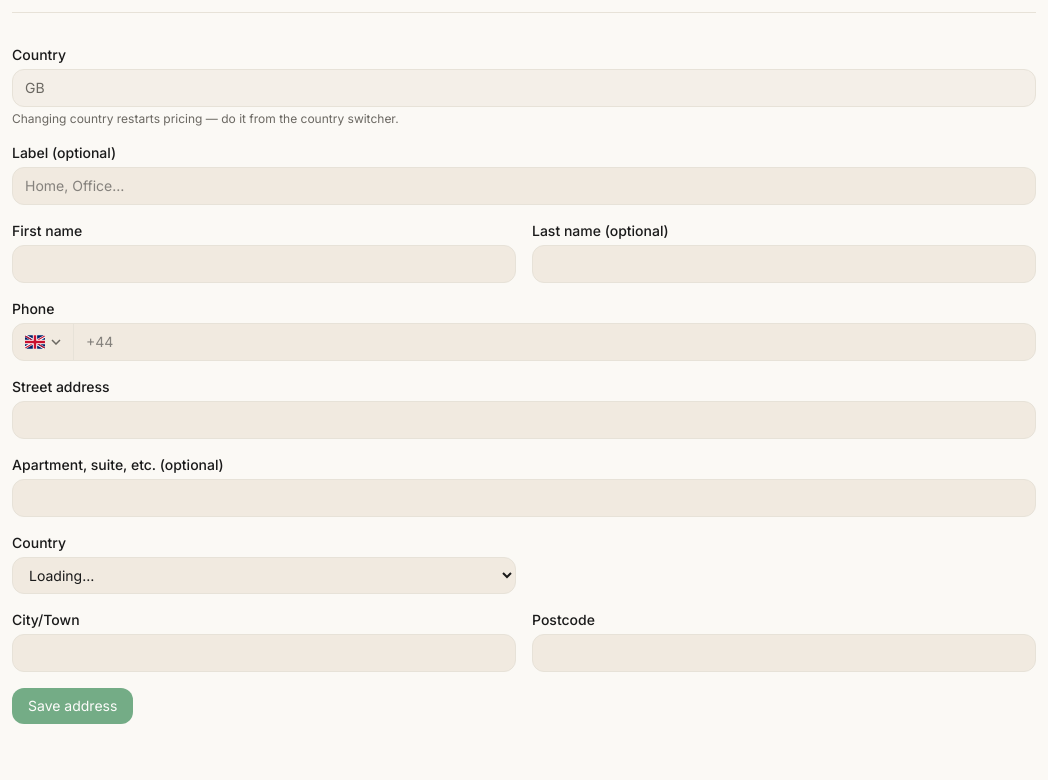
Test: AddressStep › adds a new address (happy path): fills required fields, POSTs, selects it, and completes step 2
Expected: the field labelled "Street address" is shown, x1=12 y1=401 x2=1036 y2=439
Step 1. Type "Ada" into the field labelled "First name" → (264, 264), box x1=12 y1=245 x2=516 y2=283
Step 2. Type "07000000000" into the field labelled "Phone" → (554, 342), box x1=74 y1=324 x2=1035 y2=360
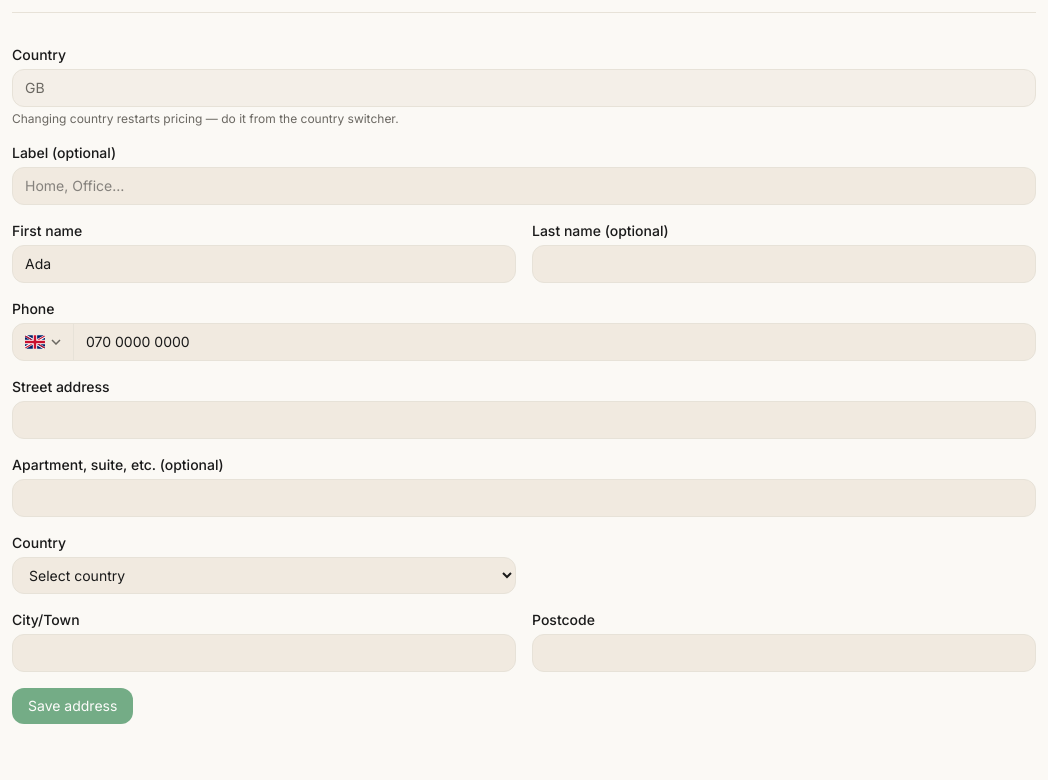
Step 3. Type "10 Downing St" into the field labelled "Street address" → (524, 420), box x1=12 y1=401 x2=1036 y2=439
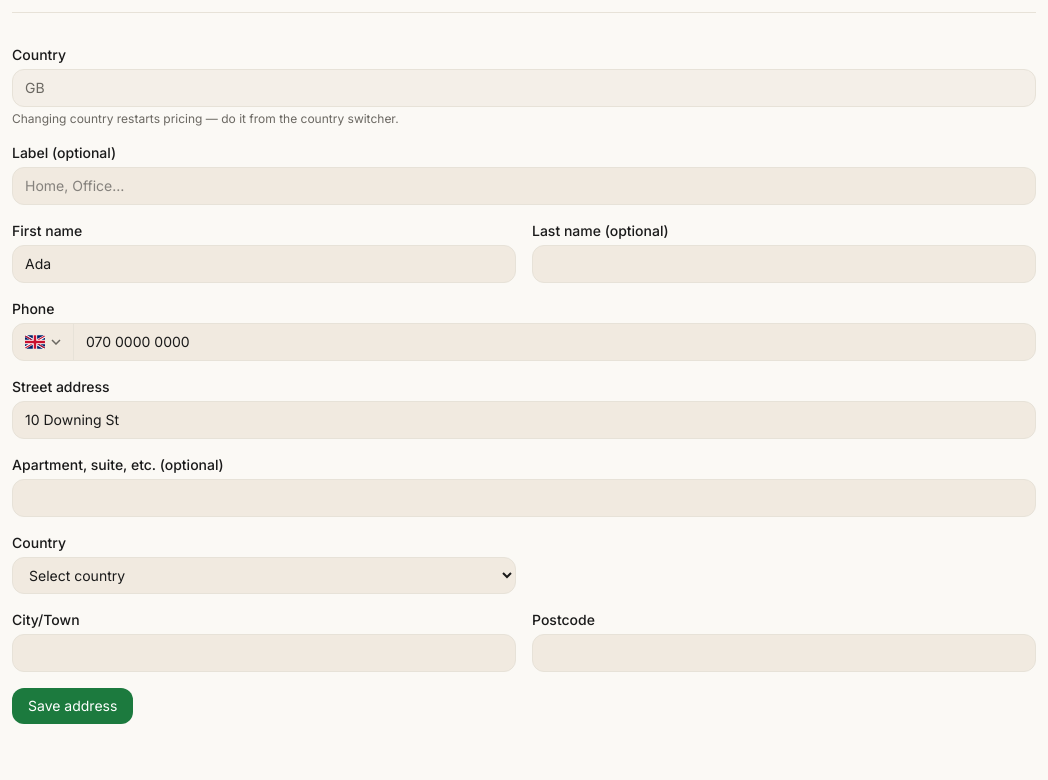
Step 4. Select "England" in the dropdown labelled "Country" → (264, 576), box x1=12 y1=557 x2=516 y2=594
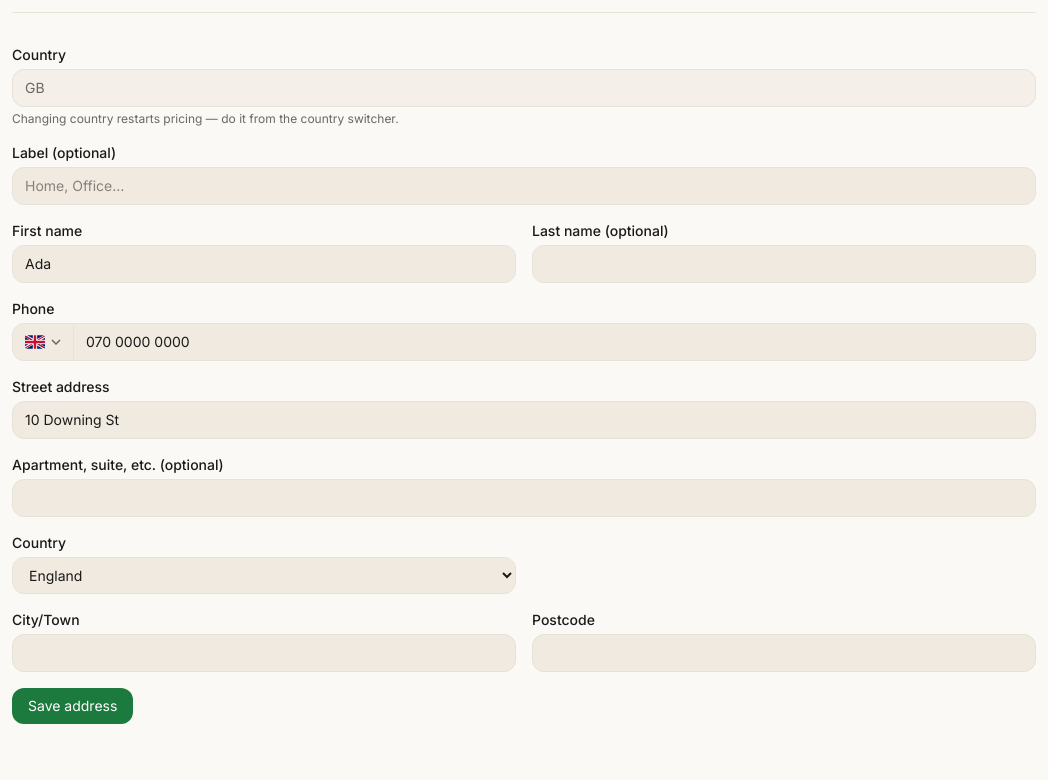
Step 5. Type "London" into the field labelled "City/Town" → (264, 653), box x1=12 y1=634 x2=516 y2=672
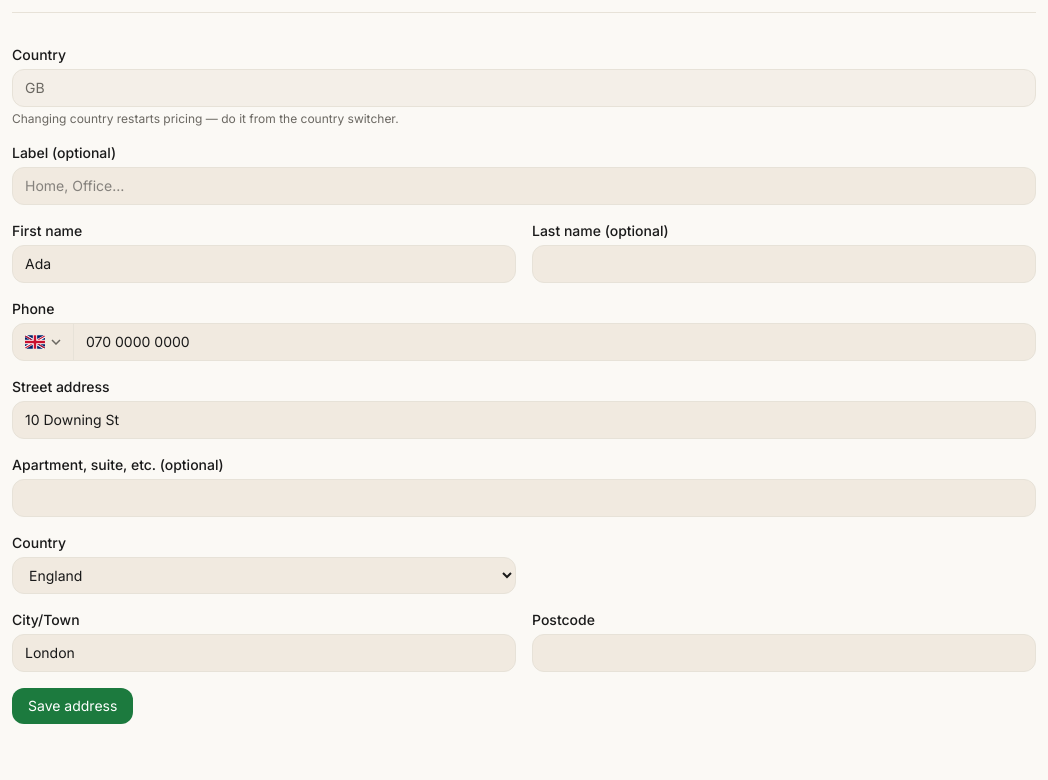
Step 6. Type "SW1A 2AA" into the field labelled "Postcode" → (784, 653), box x1=532 y1=634 x2=1036 y2=672
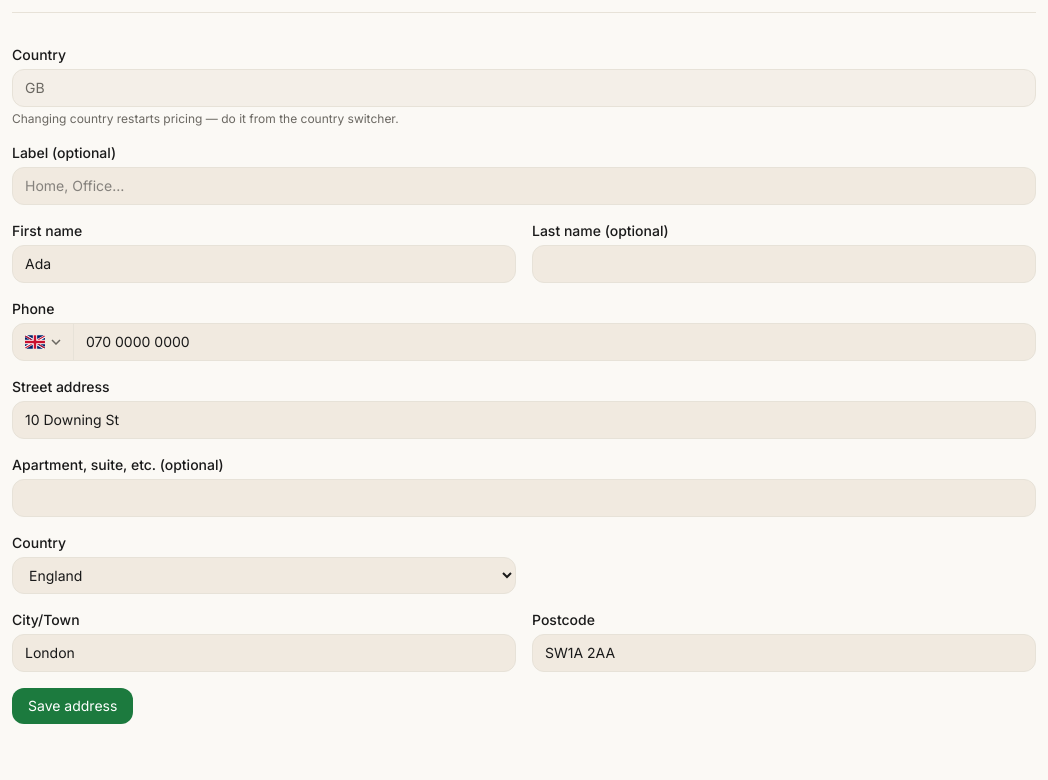
Step 7. Click the button "Save address" → (73, 706), box x1=12 y1=688 x2=133 y2=724
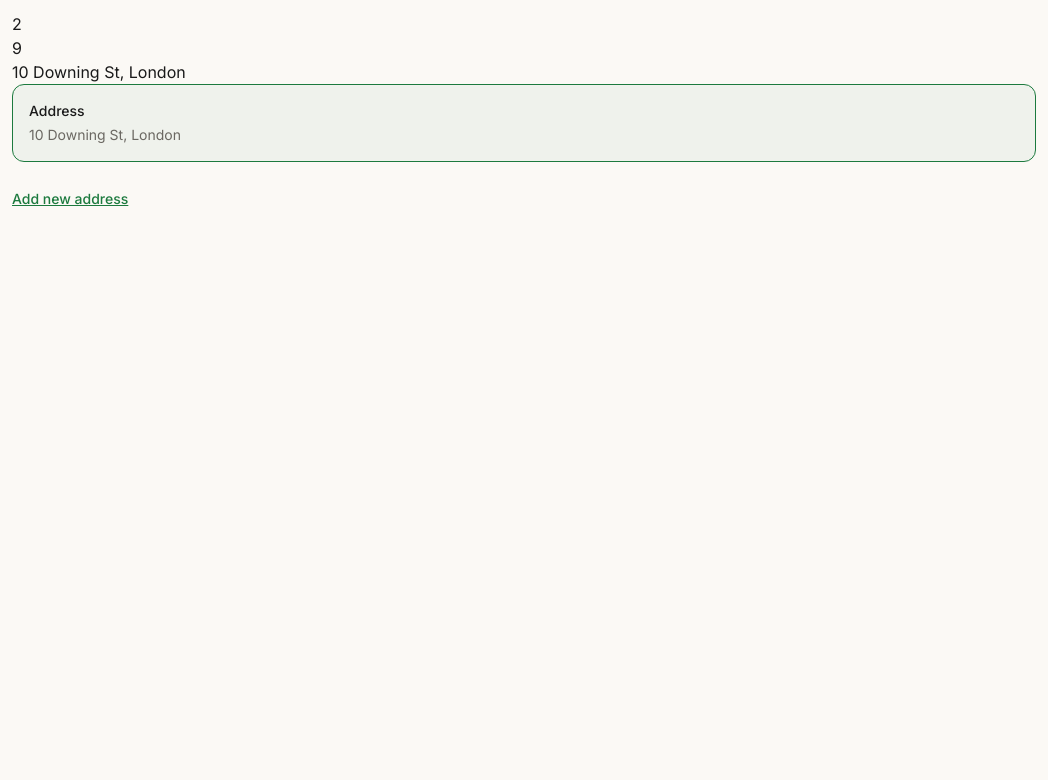
Result: the text with test id "completed" reads "2" at x1=12 y1=14 x2=22 y2=34
Result: the text with test id "addressId" reads "9" at x1=12 y1=38 x2=22 y2=58
Result: the text with test id "addressDisplay" reads "10 Downing St, London" at x1=12 y1=62 x2=186 y2=82
